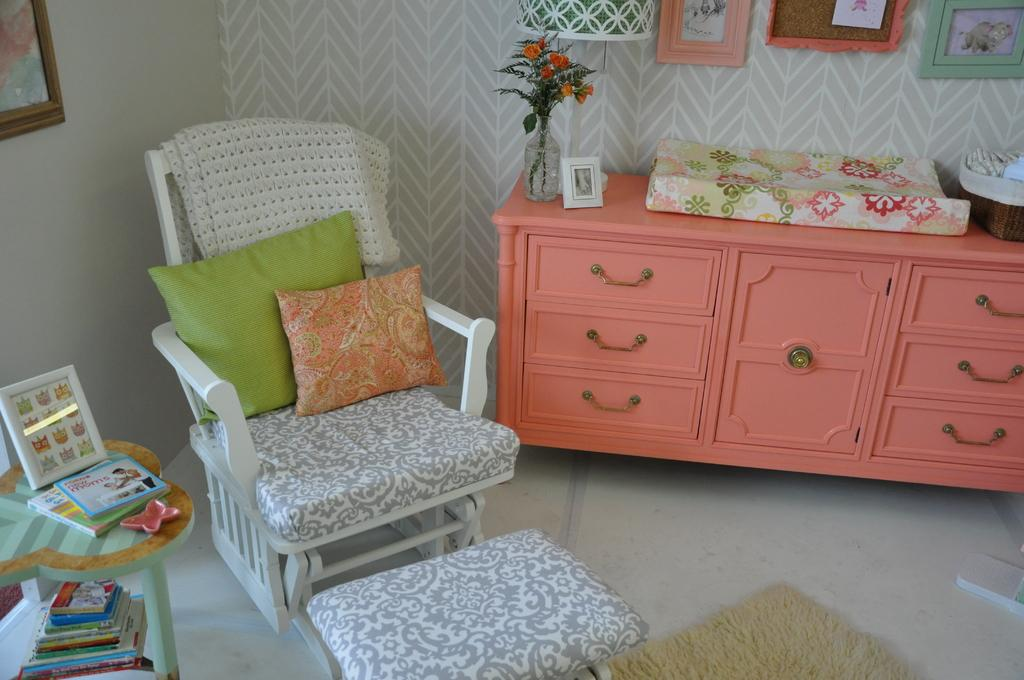cabinet_door: (734, 257, 876, 453), (534, 244, 710, 300), (534, 306, 698, 366), (550, 370, 696, 428), (911, 282, 1024, 344), (906, 347, 1024, 406), (894, 404, 1024, 456)
handle: (946, 350, 1024, 391), (582, 254, 656, 295), (582, 323, 652, 354), (940, 419, 1010, 450), (576, 386, 642, 418), (972, 291, 1024, 326), (780, 353, 814, 380)
